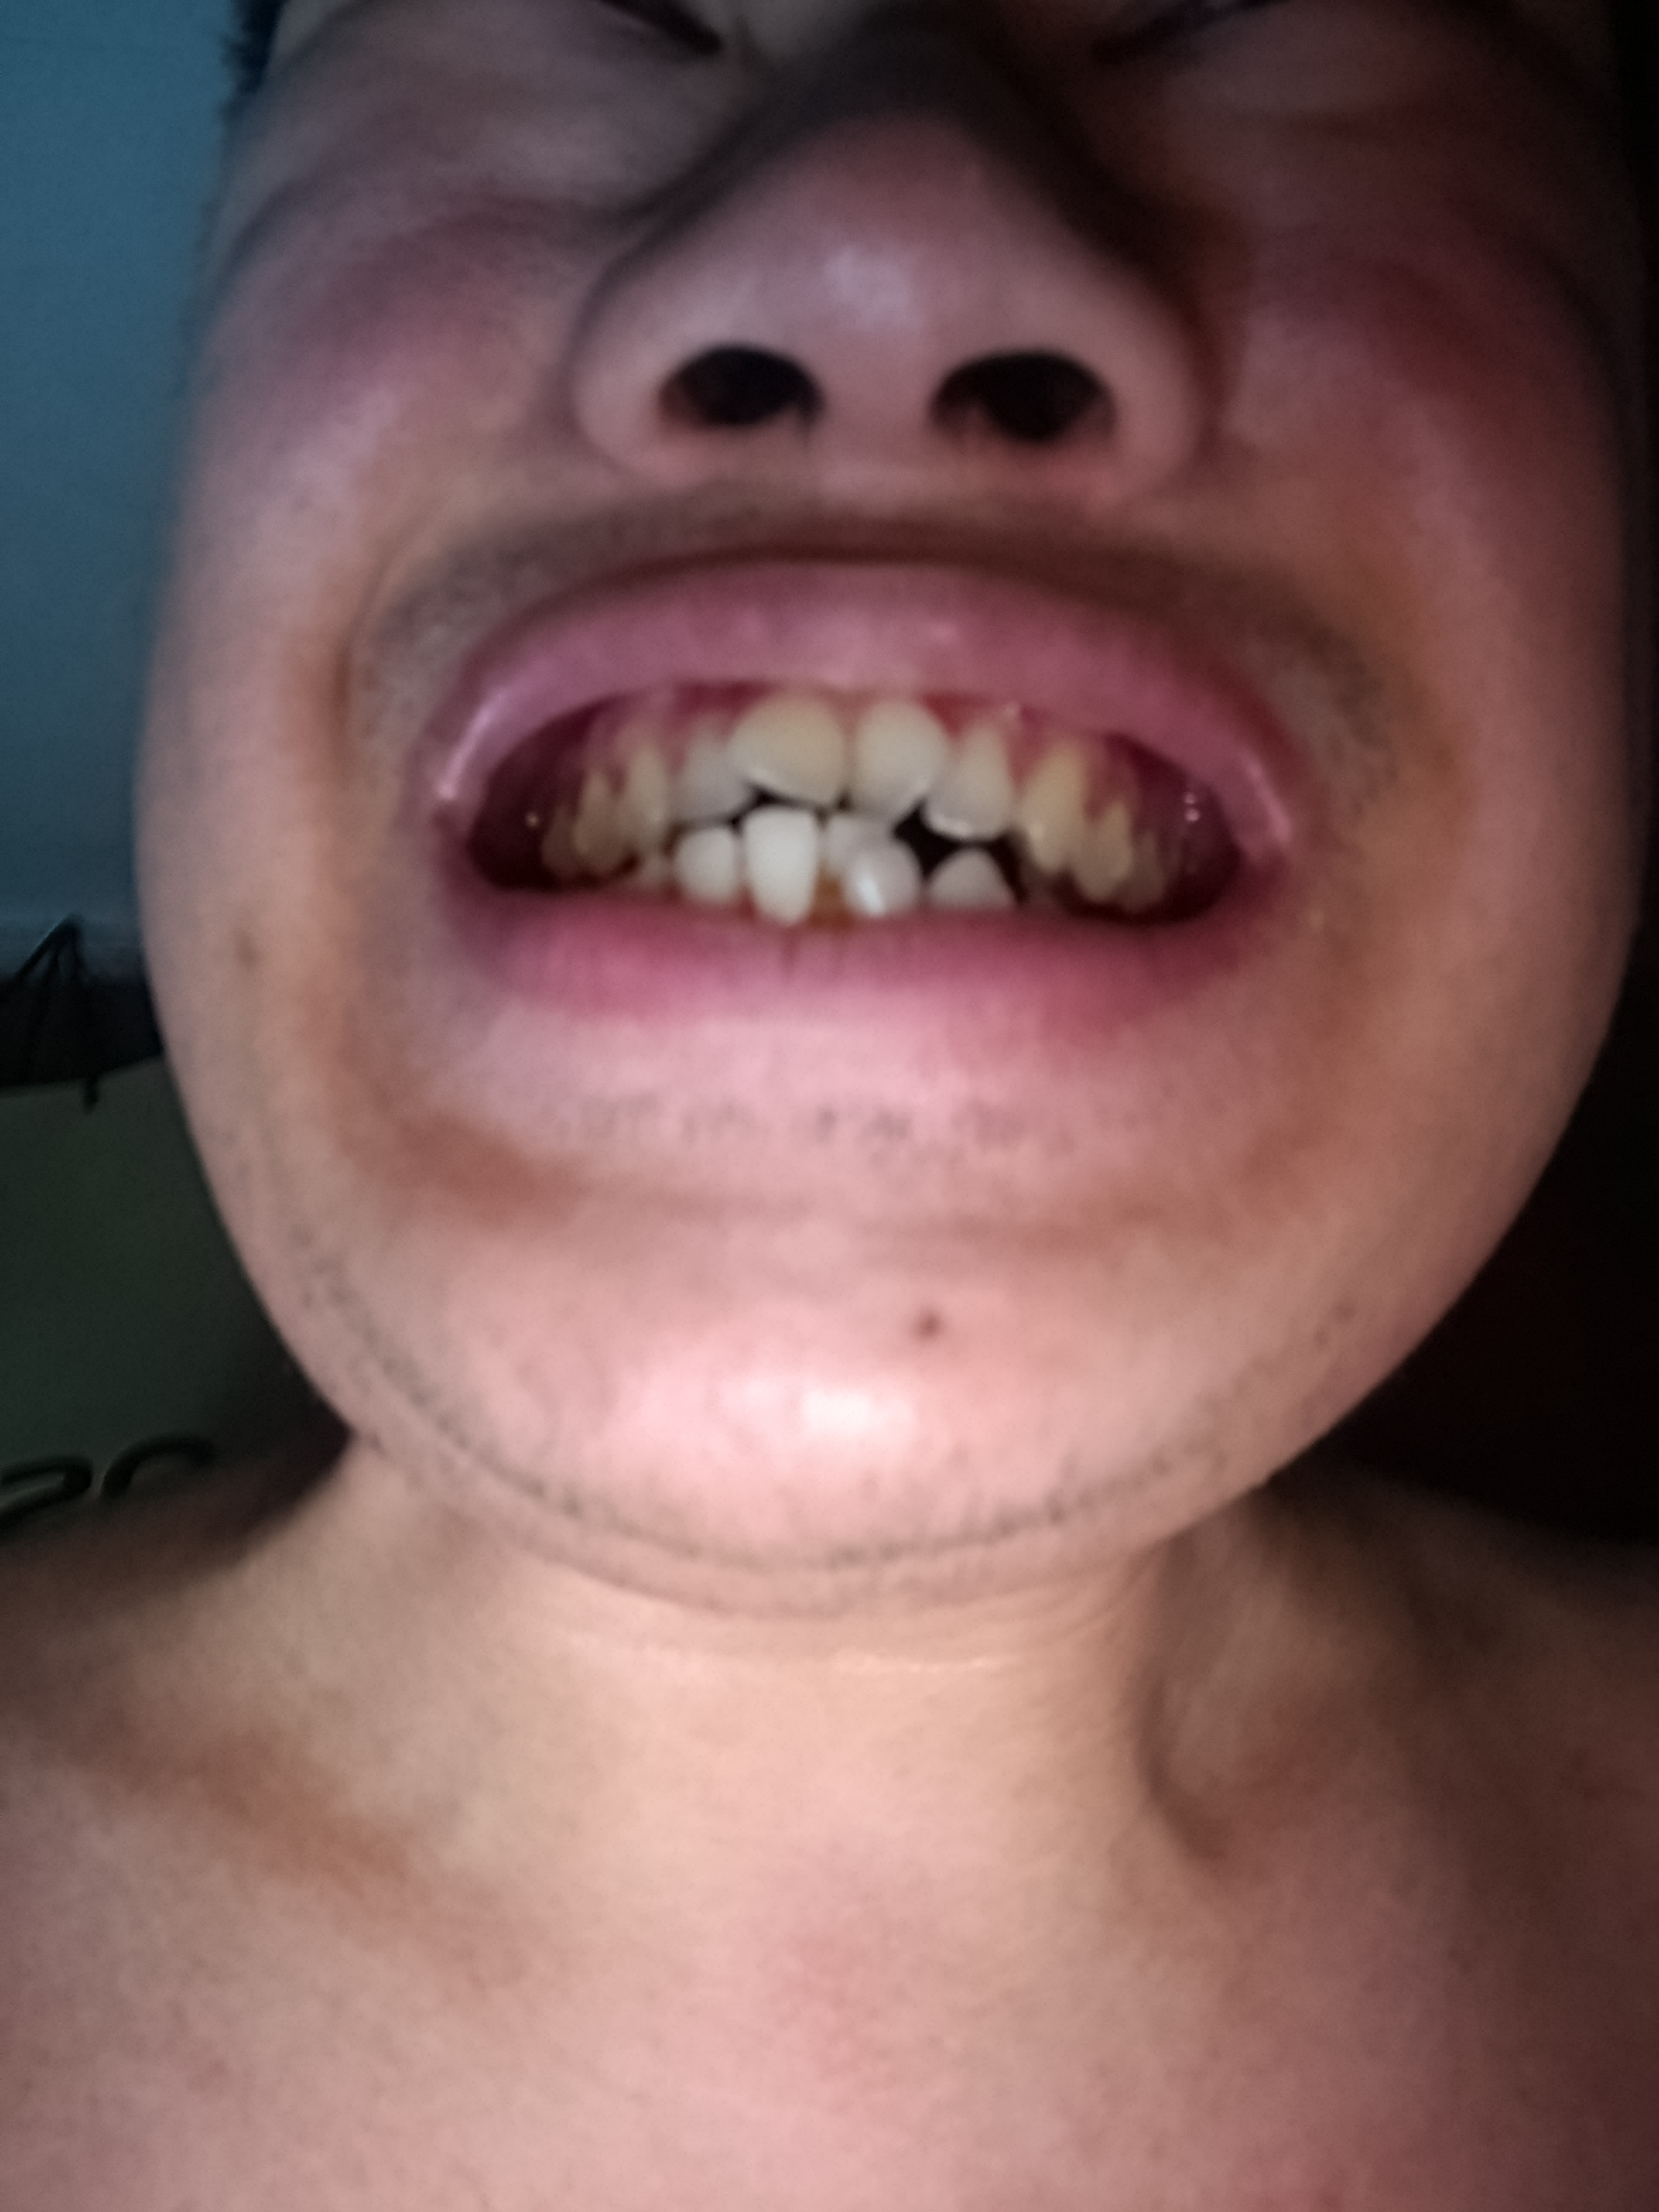teeth: (737, 690, 843, 799), (854, 709, 948, 822), (1014, 742, 1087, 869), (939, 726, 1018, 834), (676, 732, 748, 826), (751, 817, 812, 923), (673, 834, 742, 914), (849, 843, 911, 923), (626, 752, 671, 859), (582, 770, 622, 860), (1086, 817, 1129, 895), (945, 859, 1006, 909), (836, 819, 877, 860)
